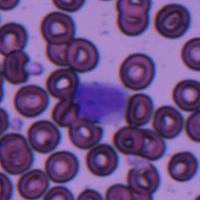L: (72, 80, 128, 124)
